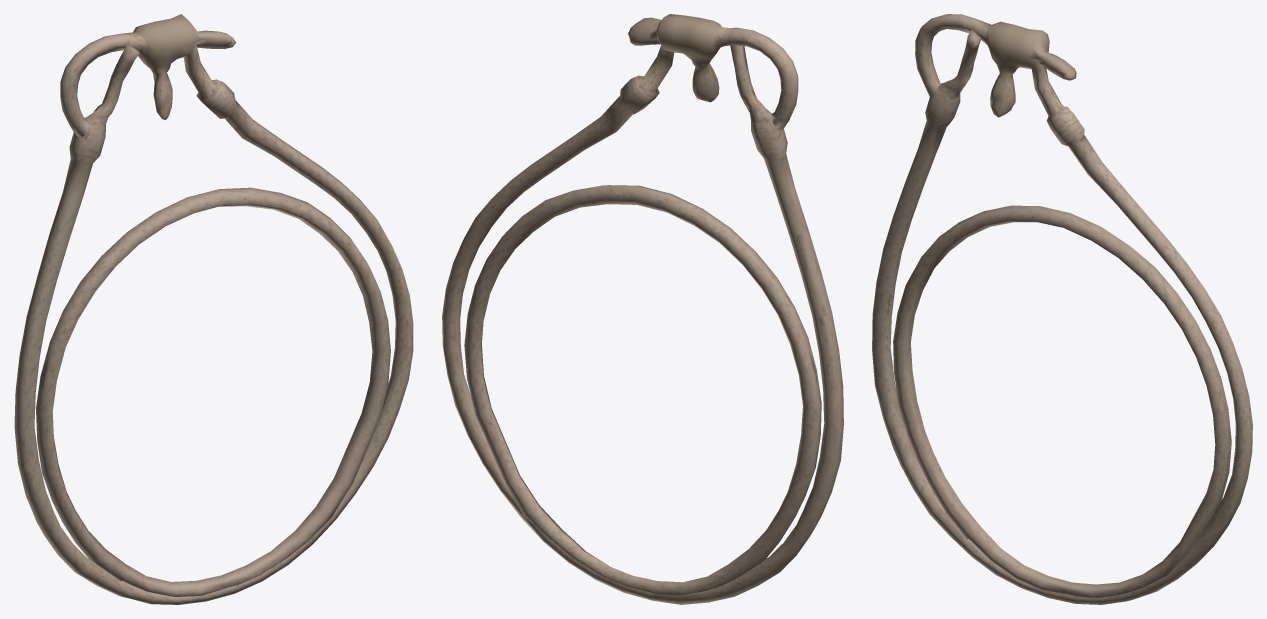
The model's file is Soga.fbx.
The picture shows the model from 3 angles, left to right: view 1: azimuth 30°, elevation 25°; view 2: azimuth 150°, elevation 25°; view 3: azimuth 330°, elevation 25°; orthographic projection. The views are drawn at different scales.
Parts seen in each view (by area): view 1: Soga.001; view 2: Soga.001; view 3: Soga.001.
Part boxes in pixels (x1=…): Soga.001: x1=14, y1=14, x2=413, y2=604; Soga.001: x1=442, y1=14, x2=843, y2=604; Soga.001: x1=872, y1=14, x2=1252, y2=604.
Bounding box in the file's own units: 30.99 × 44.07 × 3.14.
1 material, 1 textured.
